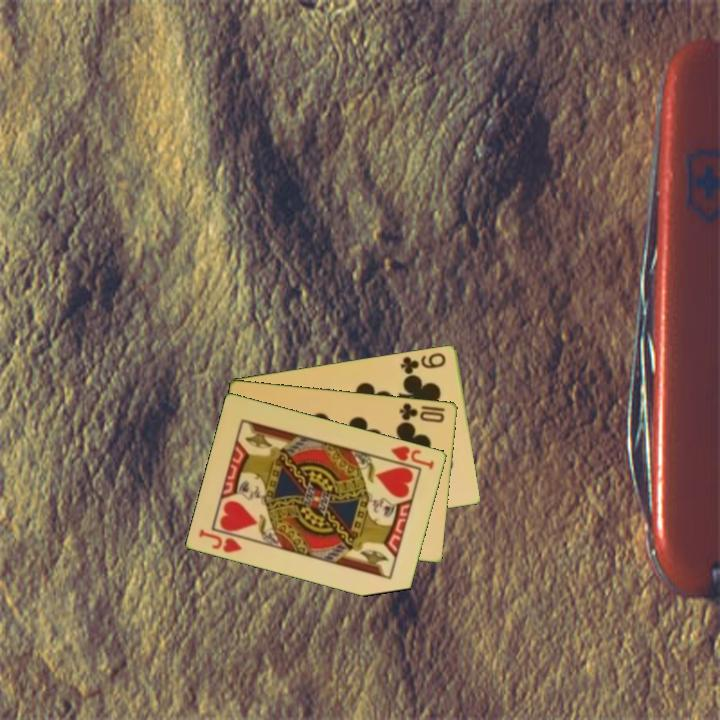10c: (396, 399, 447, 425)
9c: (397, 349, 449, 377)
Jh: (381, 442, 437, 472), (196, 525, 246, 555)
